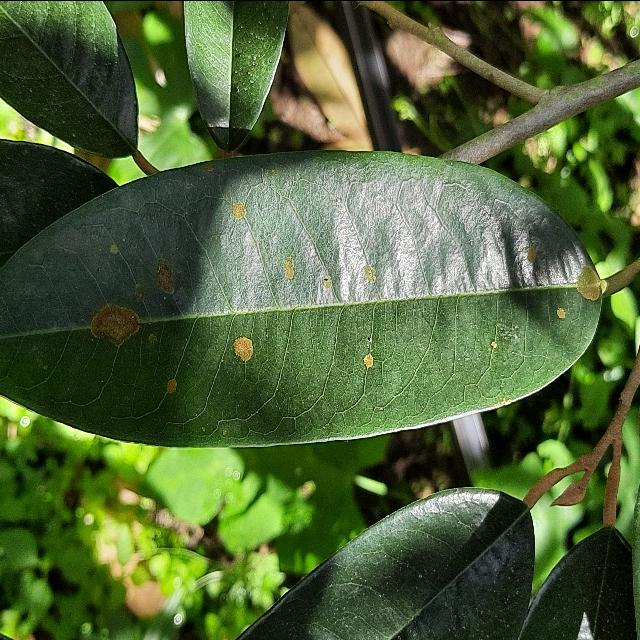Algal Leaf Spot: (0, 142, 607, 453)
